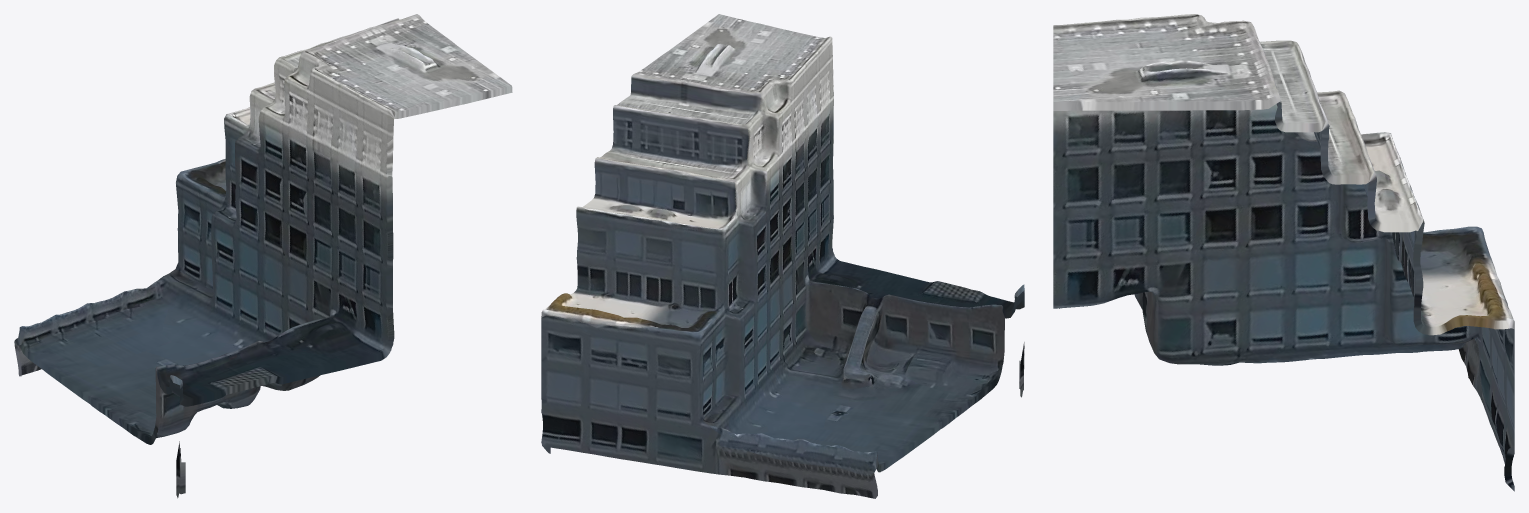
File: z20-167761-405240-h1-yup-uvflip-v3-world.glb
3 views of the same model, side by side, from view 1: azimuth 30°, elevation 25°; view 2: azimuth 150°, elevation 25°; view 3: azimuth 270°, elevation 25° (orthographic). The views are drawn at different scales.
Bounding box in the file's own units: 30.24 × 29.8 × 30.32.
1 material, 1 textured.
